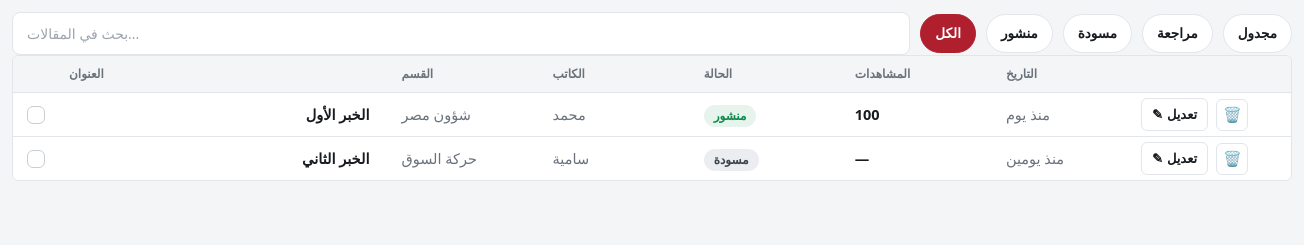
Test case: ArticlesTable delete › restores the row and explains the failure when the delete is rejected
Click the text titled "حذف" in the row of "100": (1232, 114) left=1216, top=98, right=1248, bottom=130
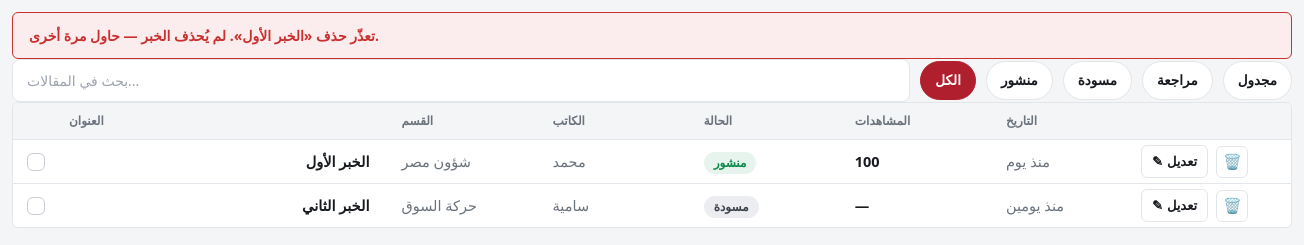
Check: the text "الخبر الأول" is shown, box left=306, top=151, right=369, bottom=171
Check: the message shows "تعذّر حذف «الخبر الأول»", box left=29, top=26, right=379, bottom=45
